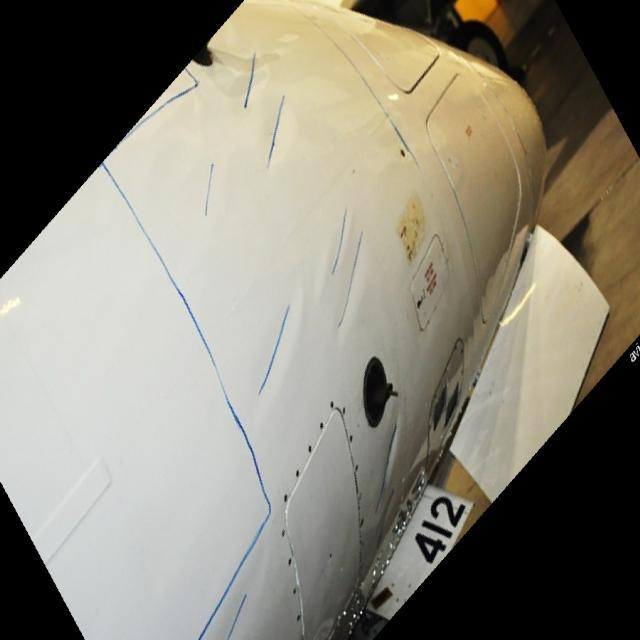dent: (265, 101, 310, 162)
